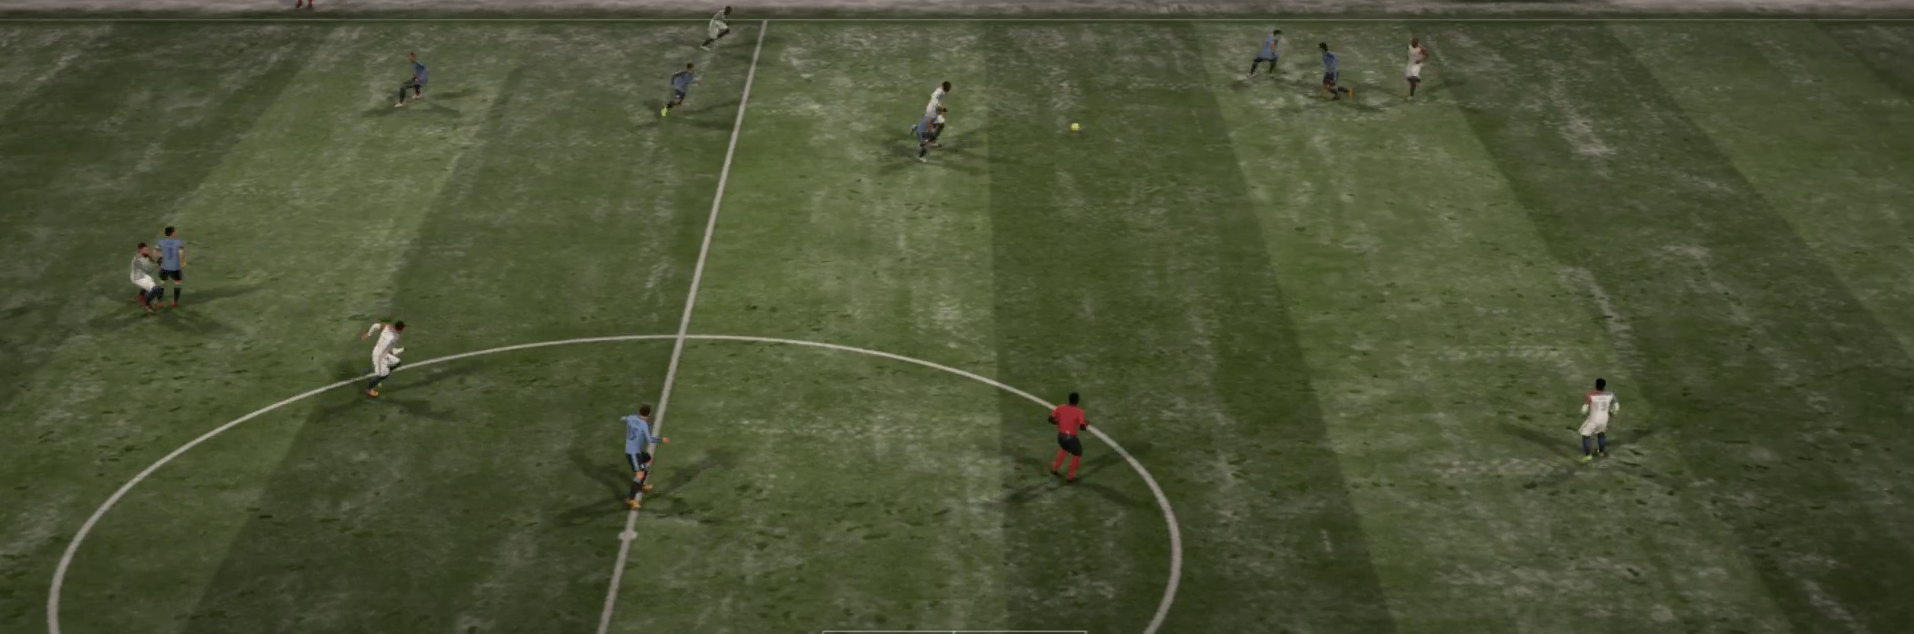ball: (1069, 119, 1081, 132)
person: (615, 399, 665, 515), (1574, 373, 1624, 475), (361, 312, 413, 412), (1046, 384, 1093, 486), (1241, 25, 1291, 86), (154, 225, 185, 312), (130, 238, 167, 310), (1398, 30, 1433, 108), (1313, 36, 1350, 108), (909, 103, 949, 165), (661, 60, 702, 117), (394, 47, 429, 112), (702, 2, 732, 52), (923, 79, 953, 112)
